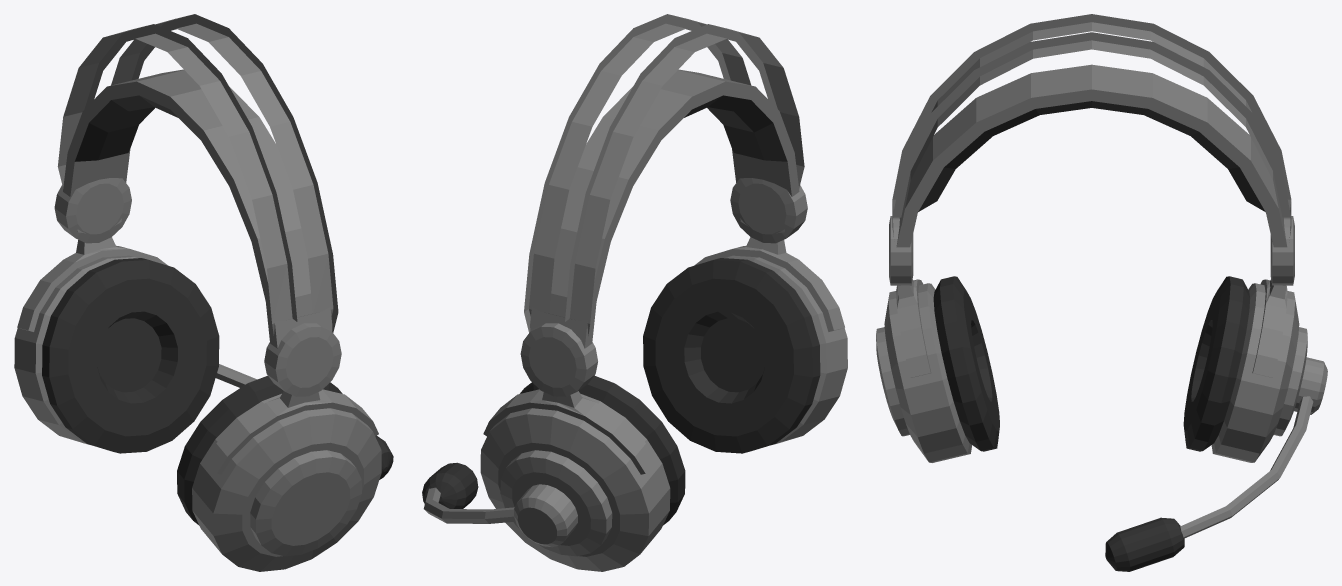
The model's file is c9b39be5-20cd-4125-bca7-d3d3037f6456.glb.
3 renders of one model, left to right at view 1: azimuth 30°, elevation 25°; view 2: azimuth 150°, elevation 25°; view 3: azimuth 270°, elevation 25°, orthographic. The views are drawn at different scales.
Visible parts, largest first — view 1: High_End_Headset; view 2: High_End_Headset; view 3: High_End_Headset.
Part boxes in pixels (x1,y1,x2,y2): High_End_Headset: (14, 14, 393, 571); High_End_Headset: (422, 14, 847, 571); High_End_Headset: (876, 14, 1327, 571).
Bounding box in the file's own units: 45.86 × 74.84 × 66.87.
1 material, 1 textured.
